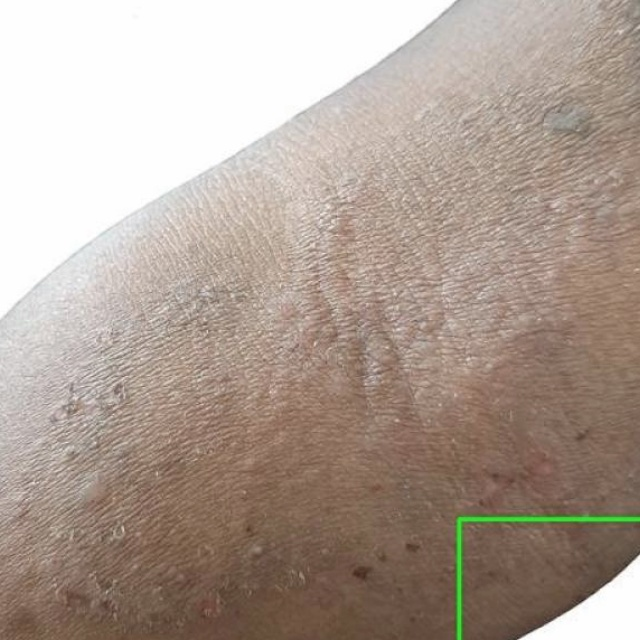Tinea Corporis: (459, 519, 639, 639)
